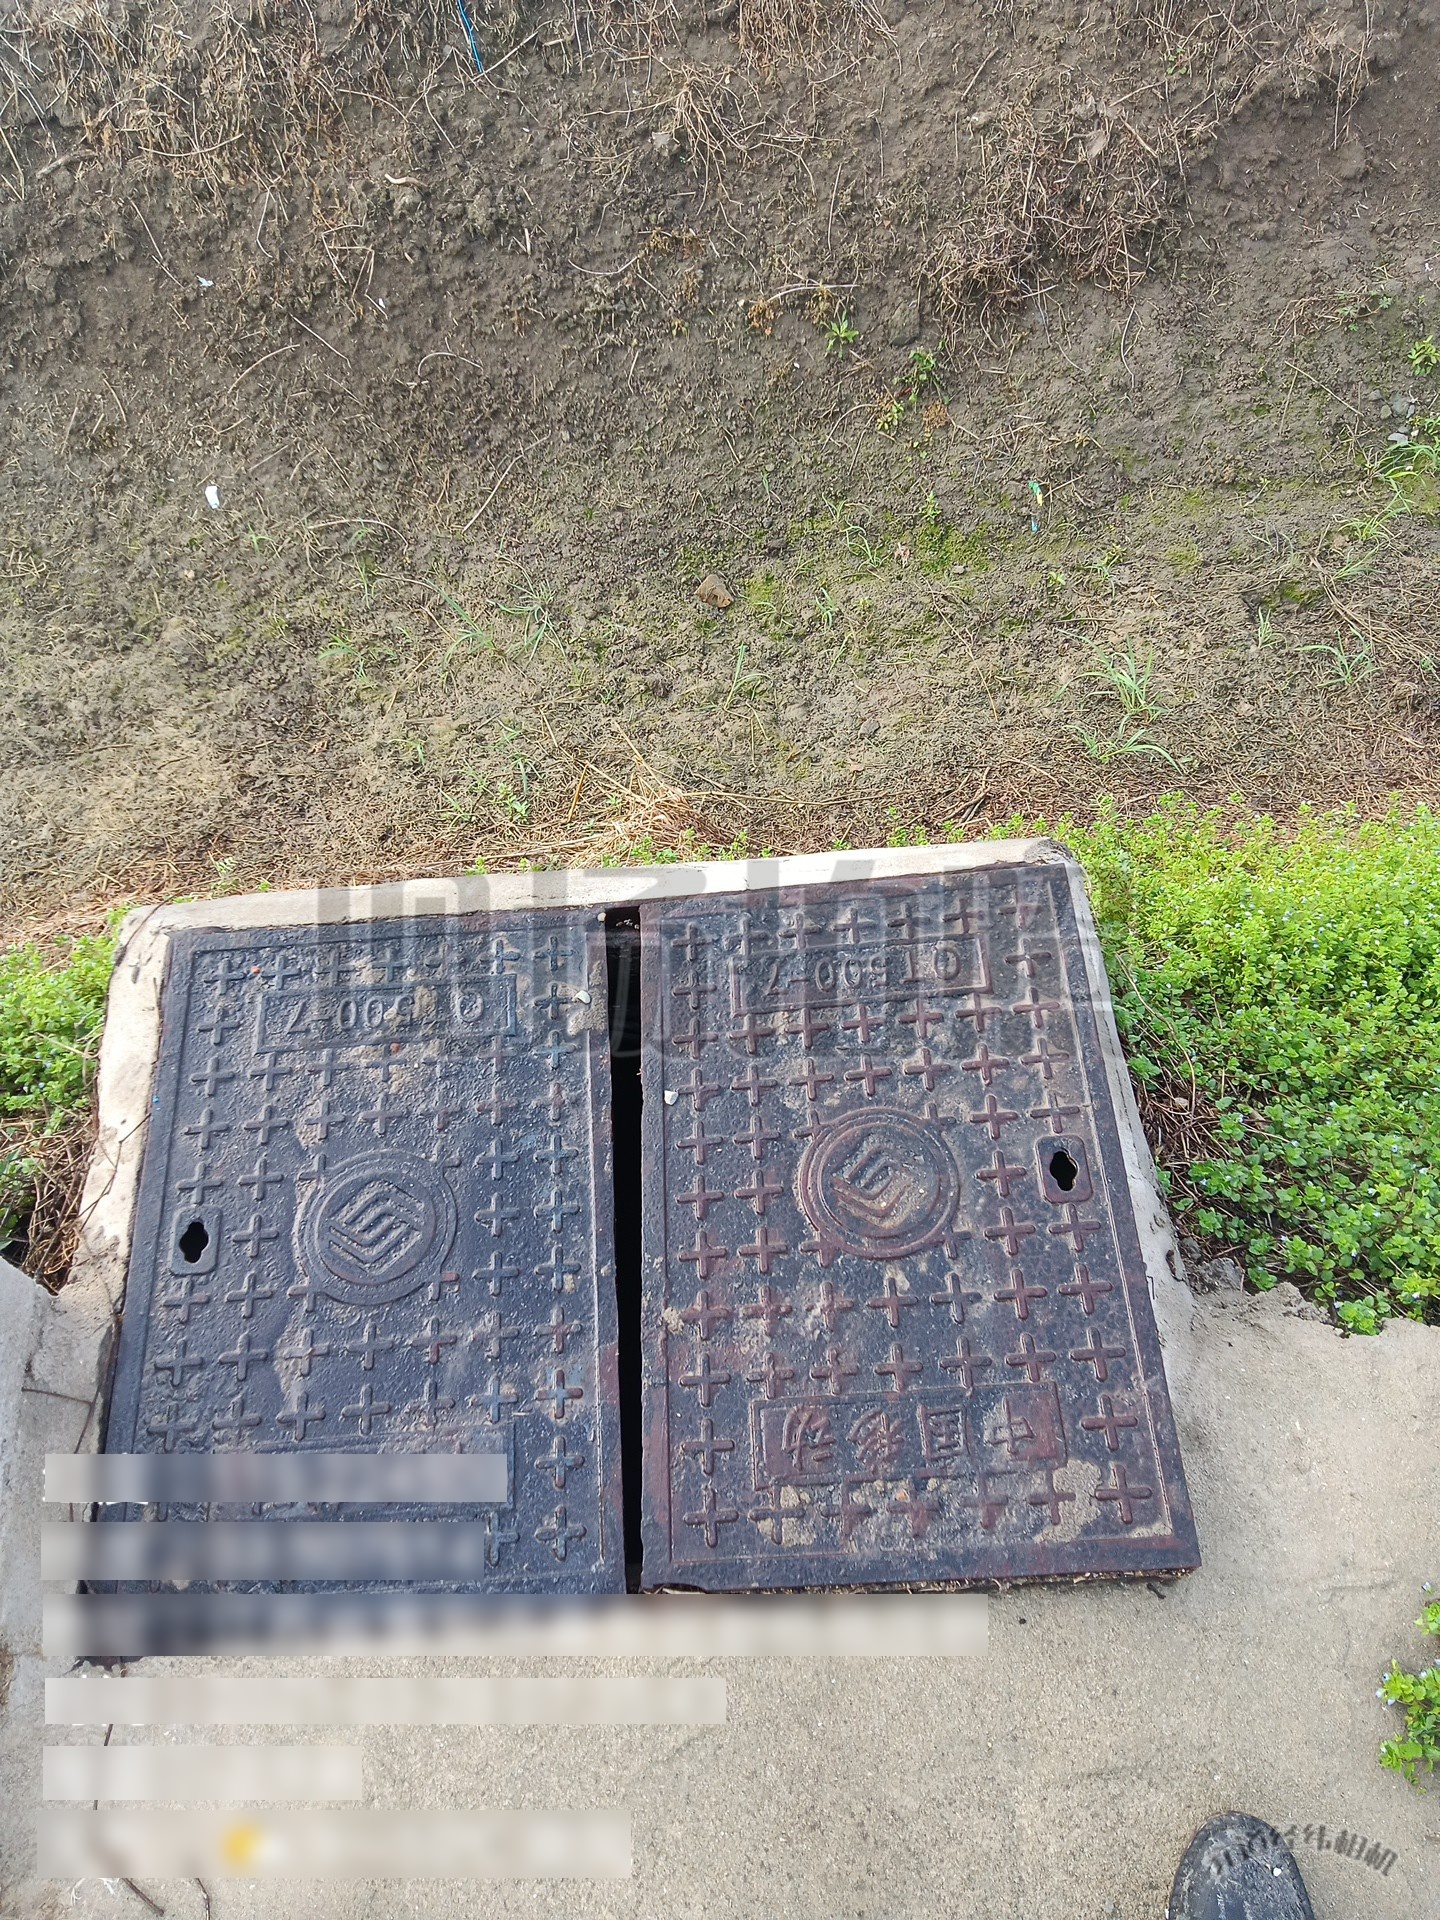well: (73, 854, 1207, 1624)
